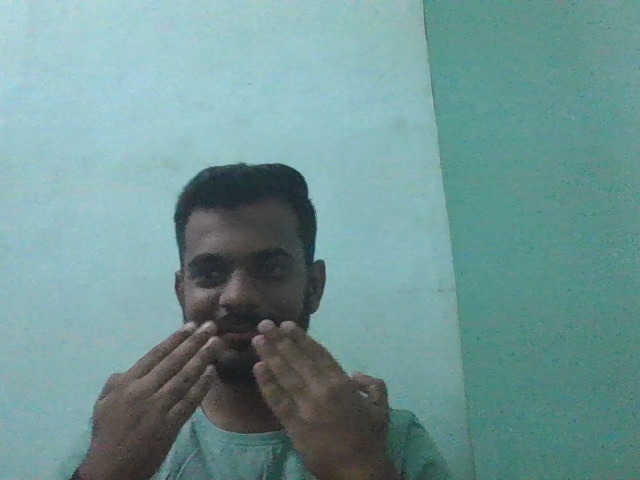thankyou: (80, 309, 414, 468)
